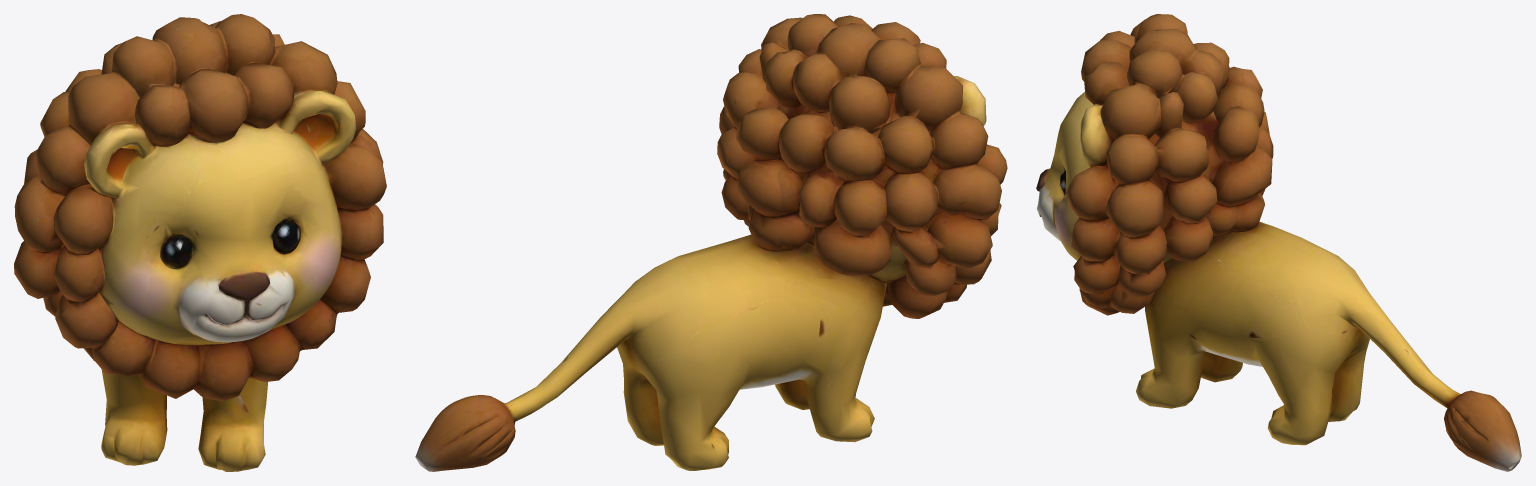
The model's file is animal_lion.glb.
3 views of the same model, side by side, from view 1: azimuth 30°, elevation 25°; view 2: azimuth 150°, elevation 25°; view 3: azimuth 270°, elevation 25° (orthographic). The views are drawn at different scales.
Parts seen in each view (by area): view 1: node_0; view 2: node_0; view 3: node_0.
Boxes of the visible parts, box(x1,y1,x2,y2) form: node_0: box(14, 14, 386, 471); node_0: box(415, 14, 1007, 471); node_0: box(1036, 14, 1521, 471).
Bounding box in the file's own units: 0.7053 × 0.6654 × 0.8238.
Materials: 1 (1 with a texture image).
